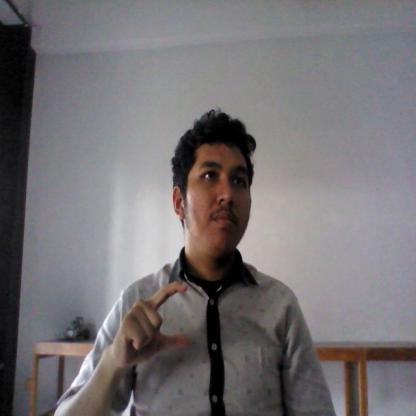C: (105, 278, 190, 372)
